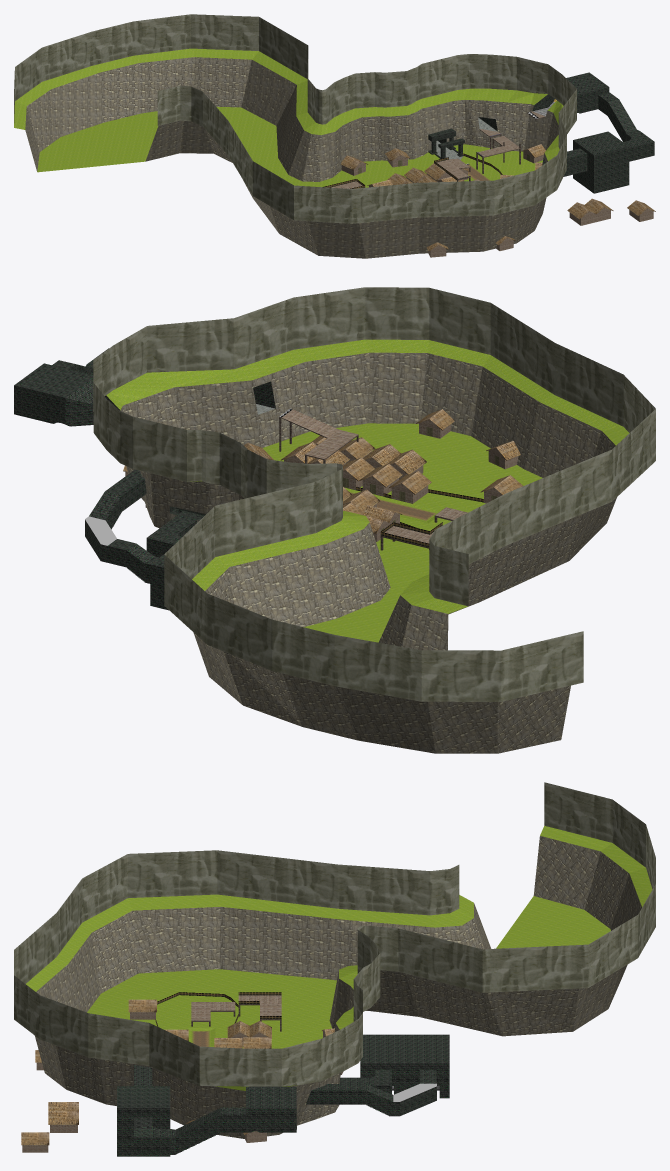
The picture shows the model from 3 angles, top to bottom: view 1: azimuth 30°, elevation 25°; view 2: azimuth 150°, elevation 25°; view 3: azimuth 270°, elevation 25°; orthographic projection. The views are drawn at different scales.
Visible parts, largest first — view 1: Dragon_s_Den-SKP--stone_wall, Dragon_s_Den-SKP--stone_wall_2, Dragon_s_Den-SKP--grass, Dragon_s_Den-SKP--brick_wall_1, Dragon_s_Den-SKP--planks, Dragon_s_Den-SKP--straw_roof, Dragon_s_Den-SKP--brick_wall_2, Dragon_s_Den-SKP--side_planks, Dragon_s_Den-SKP--fence; view 2: Dragon_s_Den-SKP--stone_wall_2, Dragon_s_Den-SKP--stone_wall, Dragon_s_Den-SKP--grass, Dragon_s_Den-SKP--brick_wall_1, Dragon_s_Den-SKP--straw_roof, Dragon_s_Den-SKP--planks, Dragon_s_Den-SKP--fence; view 3: Dragon_s_Den-SKP--stone_wall_2, Dragon_s_Den-SKP--stone_wall, Dragon_s_Den-SKP--grass, Dragon_s_Den-SKP--brick_wall_1, Dragon_s_Den-SKP--straw_roof, Dragon_s_Den-SKP--planks, Dragon_s_Den-SKP--fence.
Part boxes in pixels (box(x1,y1,x2,y2)): Dragon_s_Den-SKP--stone_wall: box(25, 57, 558, 258); Dragon_s_Den-SKP--stone_wall_2: box(14, 14, 576, 223); Dragon_s_Den-SKP--grass: box(14, 48, 563, 187); Dragon_s_Den-SKP--brick_wall_1: box(438, 72, 654, 193); Dragon_s_Den-SKP--planks: box(331, 111, 653, 257); Dragon_s_Den-SKP--straw_roof: box(340, 144, 655, 250); Dragon_s_Den-SKP--brick_wall_2: box(428, 128, 464, 159); Dragon_s_Den-SKP--side_planks: box(446, 113, 545, 181); Dragon_s_Den-SKP--fence: box(322, 153, 502, 188); Dragon_s_Den-SKP--stone_wall_2: box(93, 287, 655, 701); Dragon_s_Den-SKP--stone_wall: box(120, 352, 616, 753); Dragon_s_Den-SKP--grass: box(106, 339, 629, 642); Dragon_s_Den-SKP--brick_wall_1: box(14, 348, 275, 610); Dragon_s_Den-SKP--straw_roof: box(123, 409, 522, 533); Dragon_s_Den-SKP--planks: box(125, 409, 518, 543); Dragon_s_Den-SKP--fence: box(356, 487, 483, 546); Dragon_s_Den-SKP--stone_wall_2: box(14, 782, 655, 1086); Dragon_s_Den-SKP--stone_wall: box(35, 836, 641, 1138); Dragon_s_Den-SKP--grass: box(26, 826, 652, 1090); Dragon_s_Den-SKP--brick_wall_1: box(117, 1034, 449, 1156); Dragon_s_Den-SKP--straw_roof: box(21, 999, 334, 1145); Dragon_s_Den-SKP--planks: box(22, 995, 343, 1152); Dragon_s_Den-SKP--fence: box(155, 992, 281, 1026).
Size of the model in its own units: 128216 by 23043 by 117455.
Materials: 23 (22 with a texture image).
